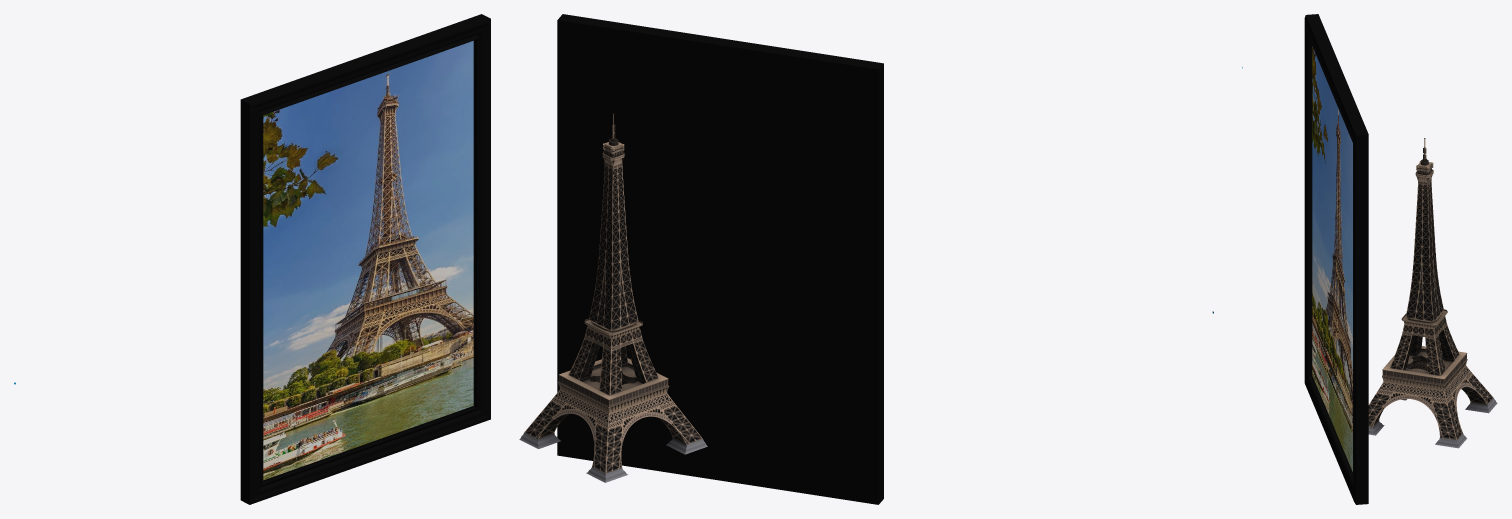
Rendered from tower.glb.
3 views of the same model, side by side, from view 1: azimuth 30°, elevation 25°; view 2: azimuth 150°, elevation 25°; view 3: azimuth 270°, elevation 25° (orthographic). The views are drawn at different scales.
Visible parts, largest first — view 1: pic; view 2: pic, tower; view 3: pic, tower.
Boxes of the visible parts, box(x1,y1,x2,y2) form: pic: box(240, 14, 490, 504); pic: box(557, 14, 883, 504); tower: box(519, 113, 707, 482); pic: box(1304, 14, 1368, 504); tower: box(1368, 138, 1497, 448).
Bounding box in the file's own units: 3.39 × 2.41 × 1.51.
Materials: 5 (2 with a texture image).
